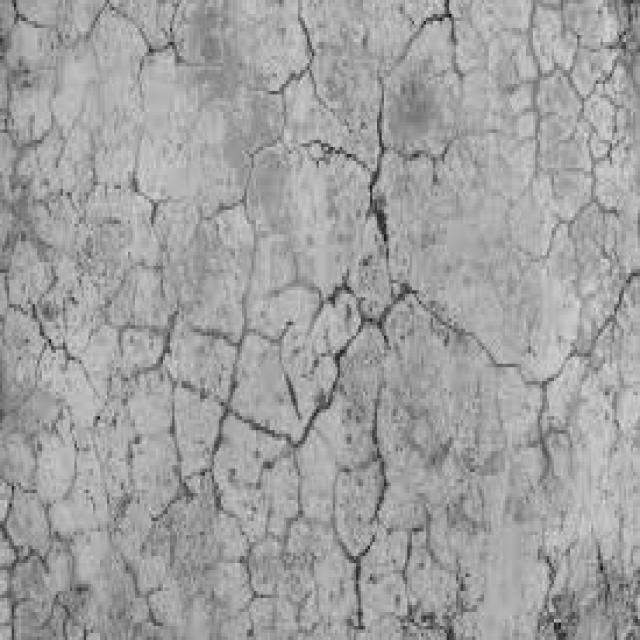crack: (320, 272, 416, 370), (365, 105, 386, 248)
